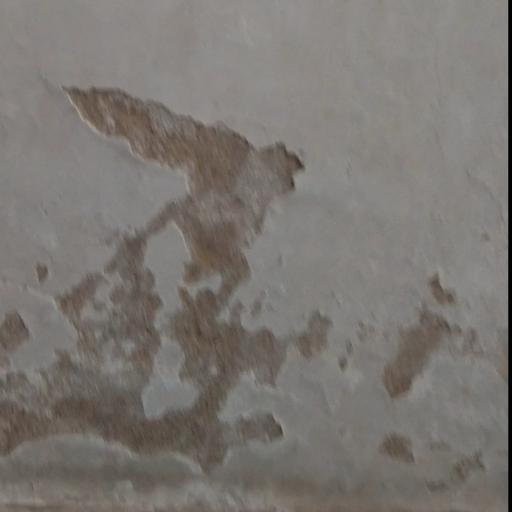spalling: (6, 44, 311, 502), (356, 243, 504, 475)
